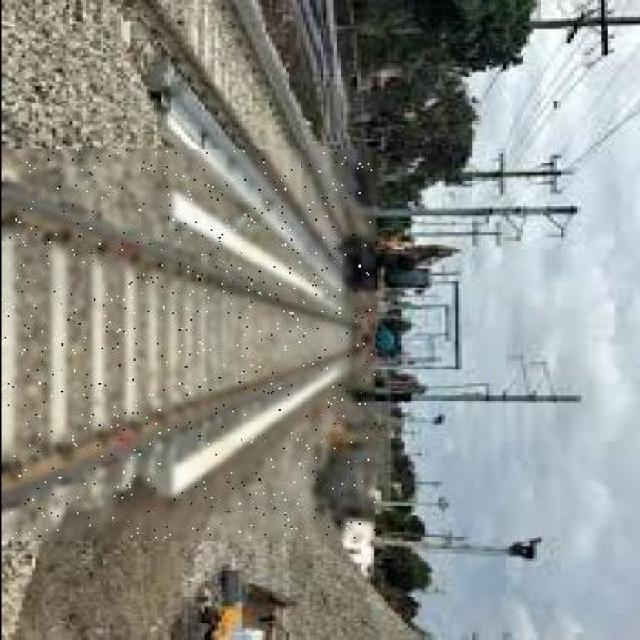rail: (3, 150, 373, 538), (105, 0, 348, 290)
